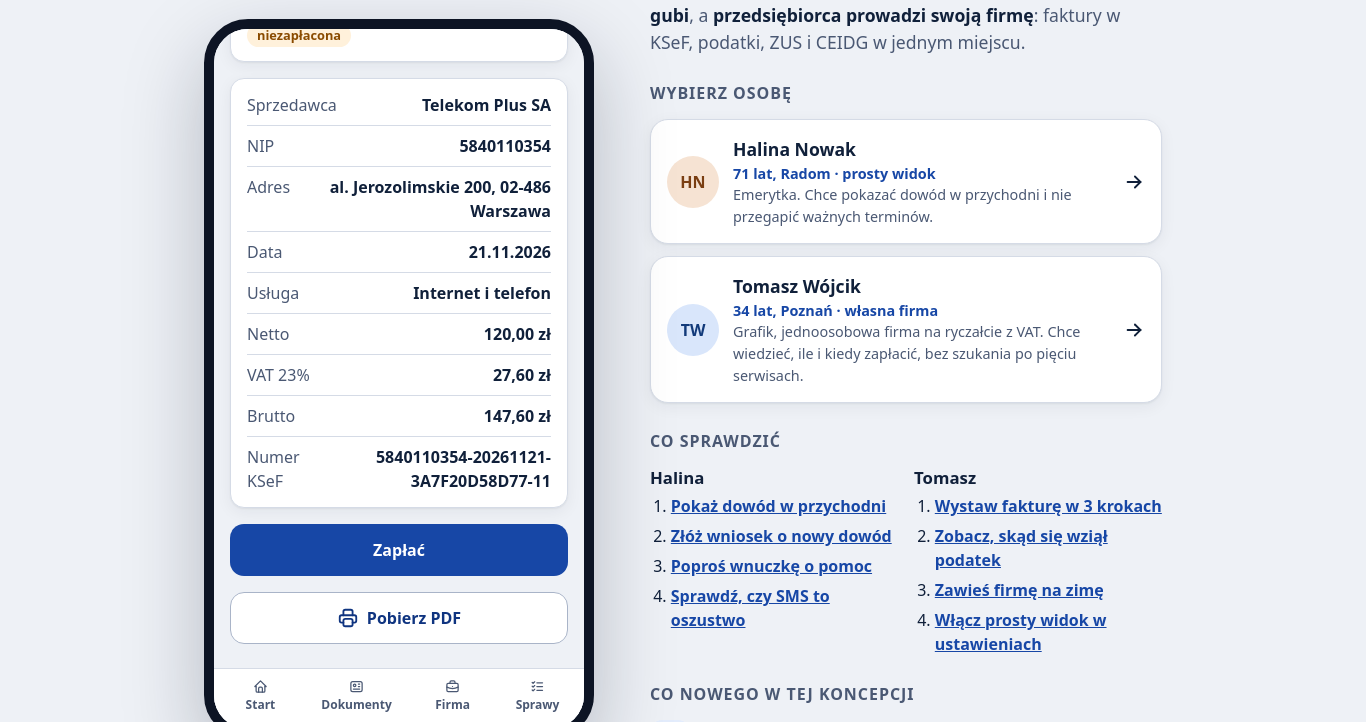
Test: widok zwykly › rachunek na białej liście → zapłacono
(page scrolled)
Step 1. Click the link "Zapłać" → (399,550), box [230,524,568,576]
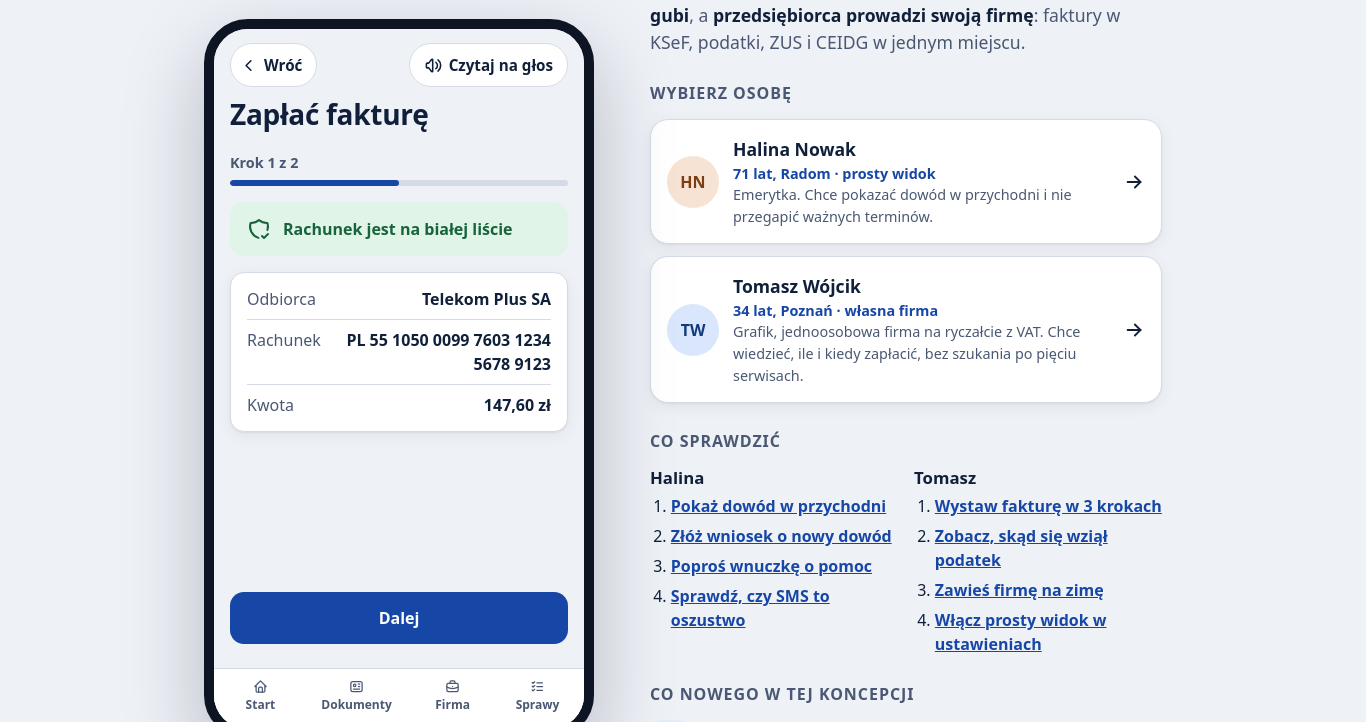
Result: the text "Rachunek jest na białej liście" is shown at [283,217,513,241]
Step 2. Click the button "Dalej" → (399,618), box [230,592,568,644]
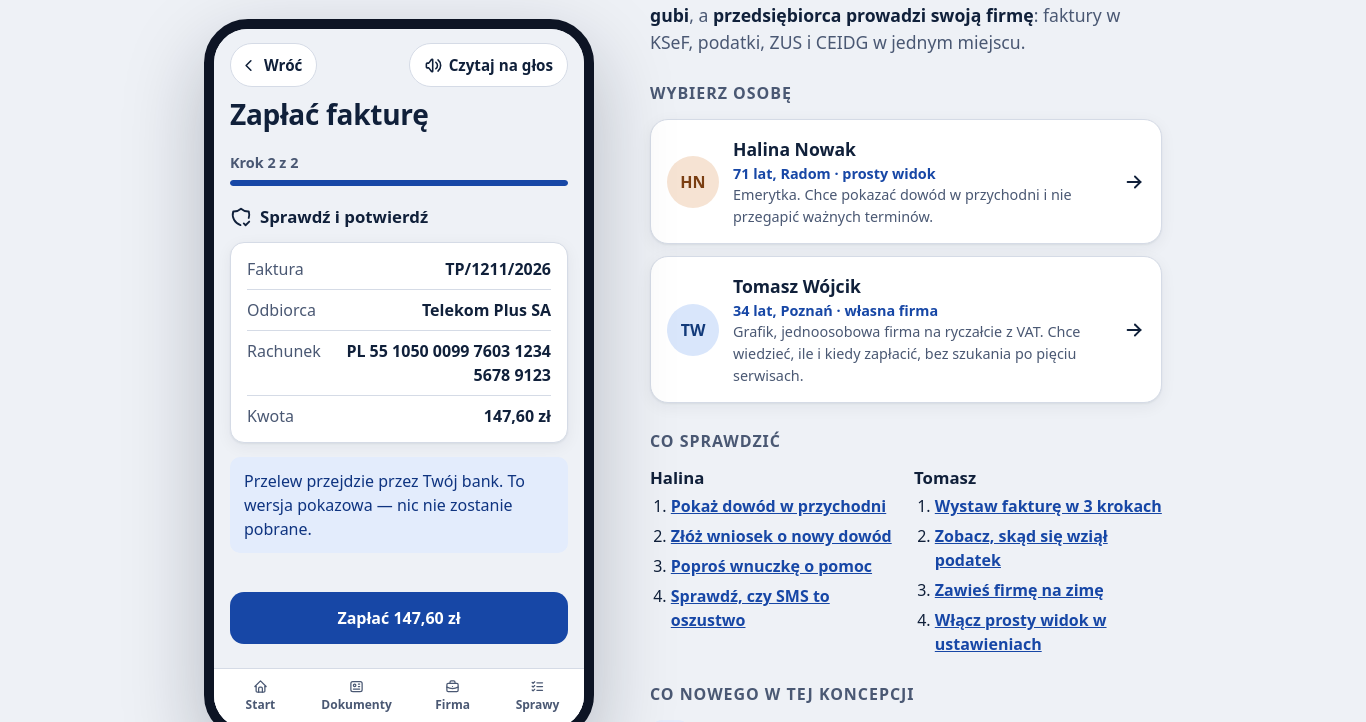
Step 3. Click the button "Zapłać 147,60 zł" → (399,618), box [230,592,568,644]
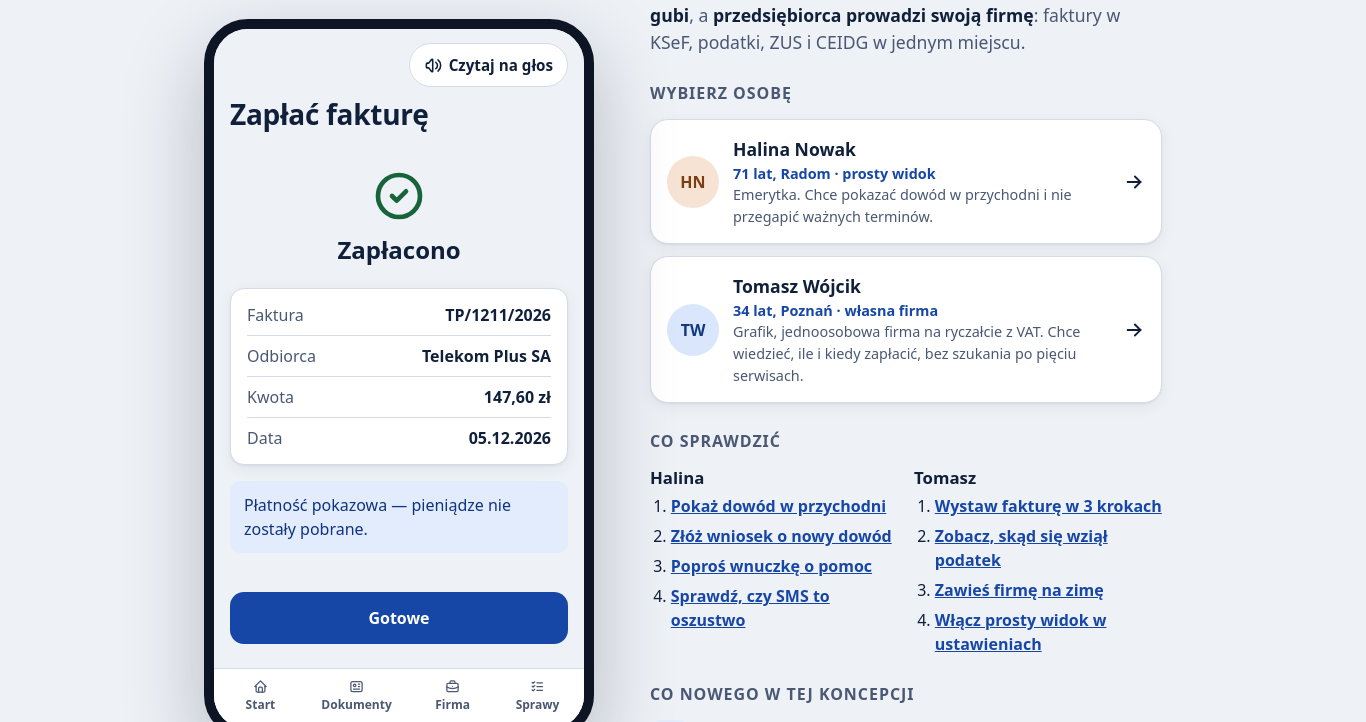
Result: the message reads "Zapłacono" at [337,233,461,266]
Result: the text "Płatność pokazowa — pieniądze nie zostały pobrane." is shown at [230,481,568,553]
Step 4. Click the link "Gotowe" → (399,618), box [230,592,568,644]
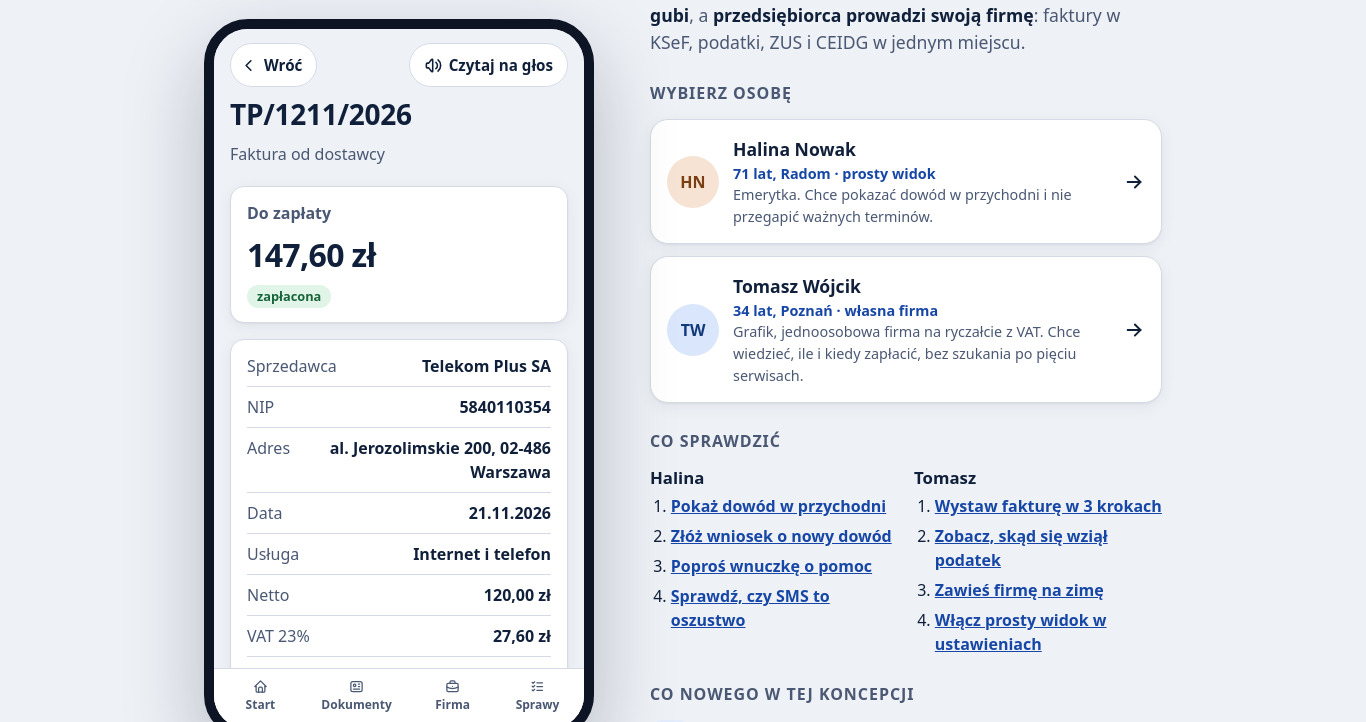
Result: the text "zapłacona" is shown at [247,285,331,308]
Result: the heading "Zapłać" is gone
